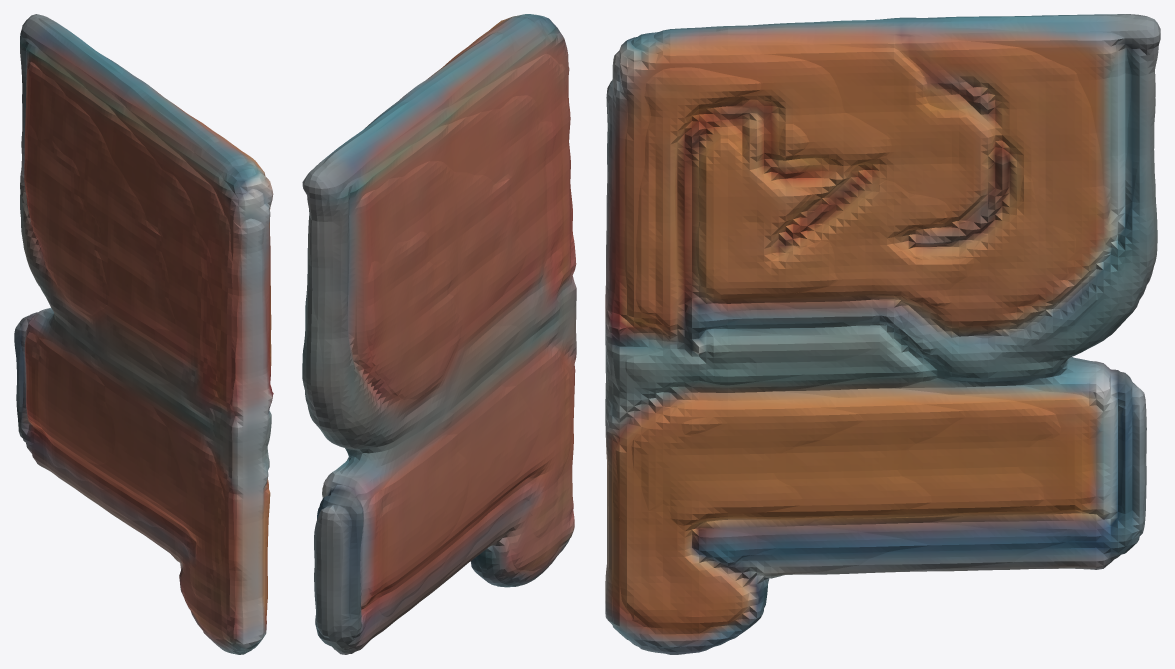
3 views of the same model, side by side, from view 1: azimuth 30°, elevation 25°; view 2: azimuth 150°, elevation 25°; view 3: azimuth 270°, elevation 25° (orthographic). The views are drawn at different scales.
Visible parts, largest first — view 1: world; view 2: world; view 3: world.
Boxes of the visible parts, left/top/right/bottom form: world: left=14, top=14, right=273, bottom=654; world: left=302, top=14, right=576, bottom=654; world: left=605, top=14, right=1160, bottom=654.
Size of the model in its own units: 0.0949 by 0.6623 by 0.5248.
